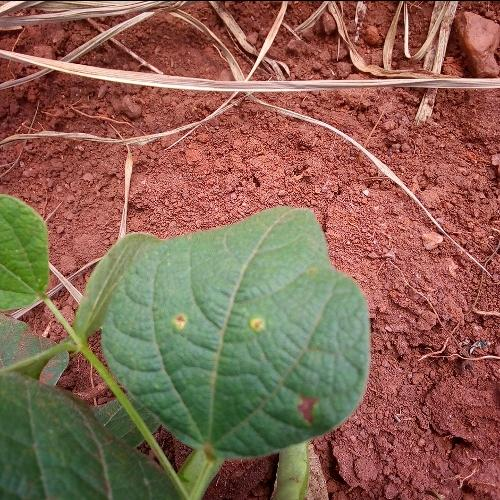hawar: (294, 384, 330, 428), (242, 301, 272, 348), (172, 311, 190, 334)
mozaik: (165, 247, 335, 300)
